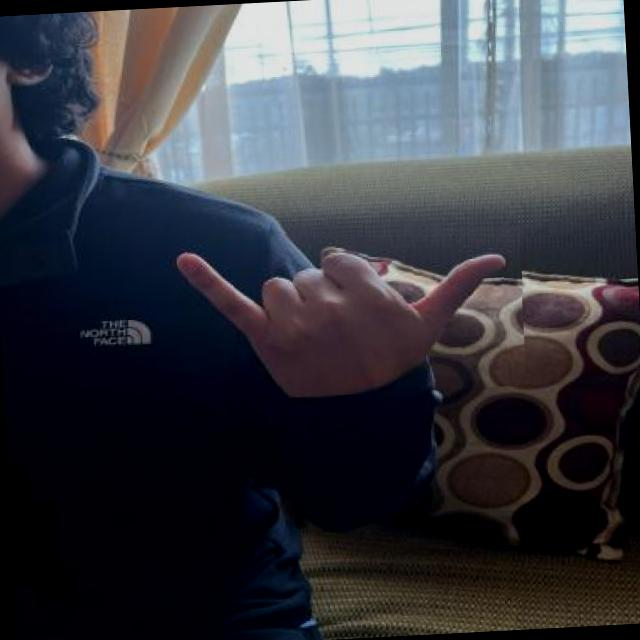Y: (163, 218, 528, 404)
